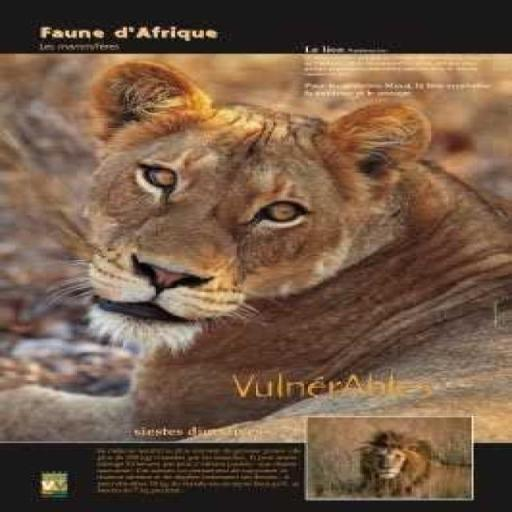Lion: (0, 59, 510, 443)
